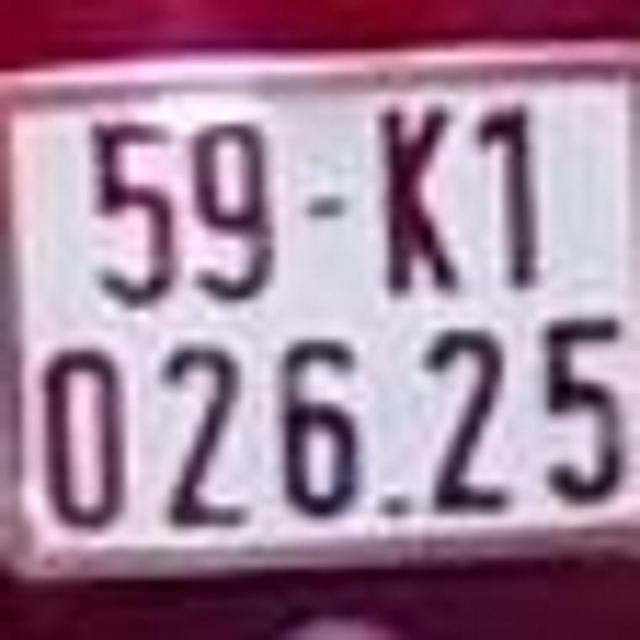0: (46, 351, 132, 528)
1: (480, 107, 538, 288)
2: (163, 349, 250, 522), (427, 327, 509, 507)
5: (89, 121, 179, 306), (545, 320, 626, 498)
6: (279, 338, 356, 508)
9: (190, 126, 276, 302)
K: (378, 104, 458, 289)
